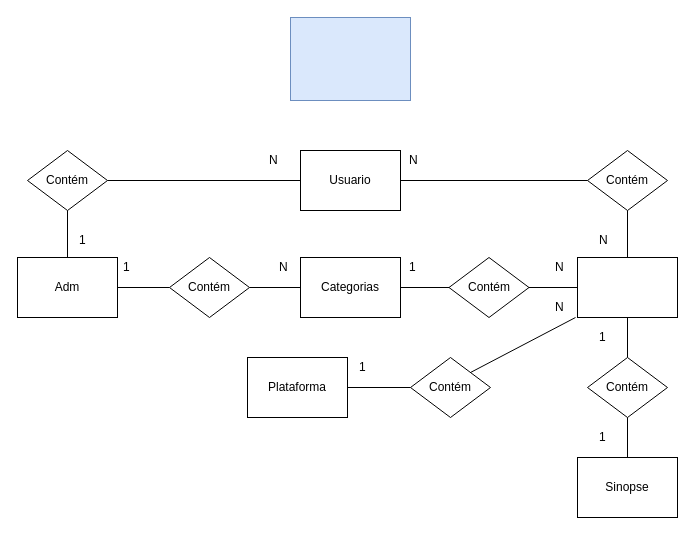
The diagram is 695 pixels wide and 535 high, and some of its shapes have lost their labels. Each missing label, with the centre of its shape:
"Conceitual" belongs at [350,58].
"Filme/Série" belongs at [627,287].
